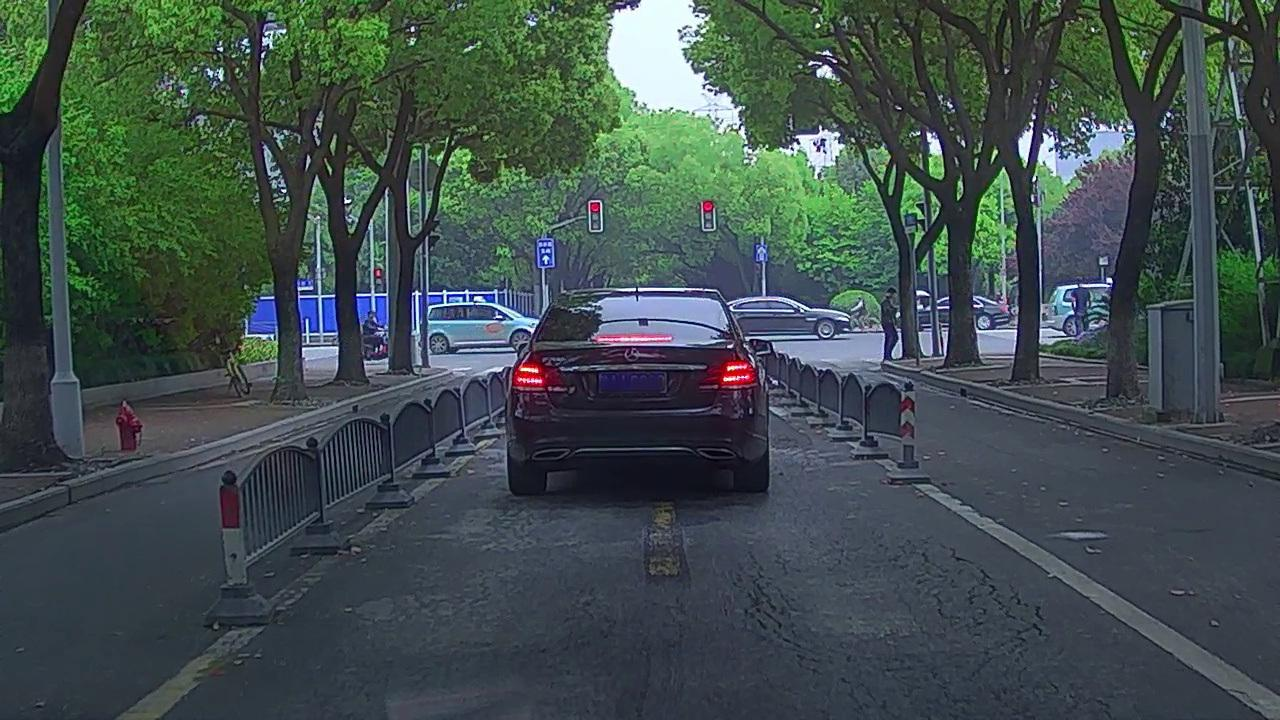traffic_light: (702, 200, 714, 229), (589, 202, 600, 230)
